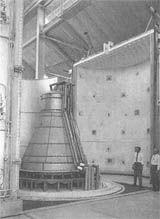thruster: (18, 112, 89, 175)
